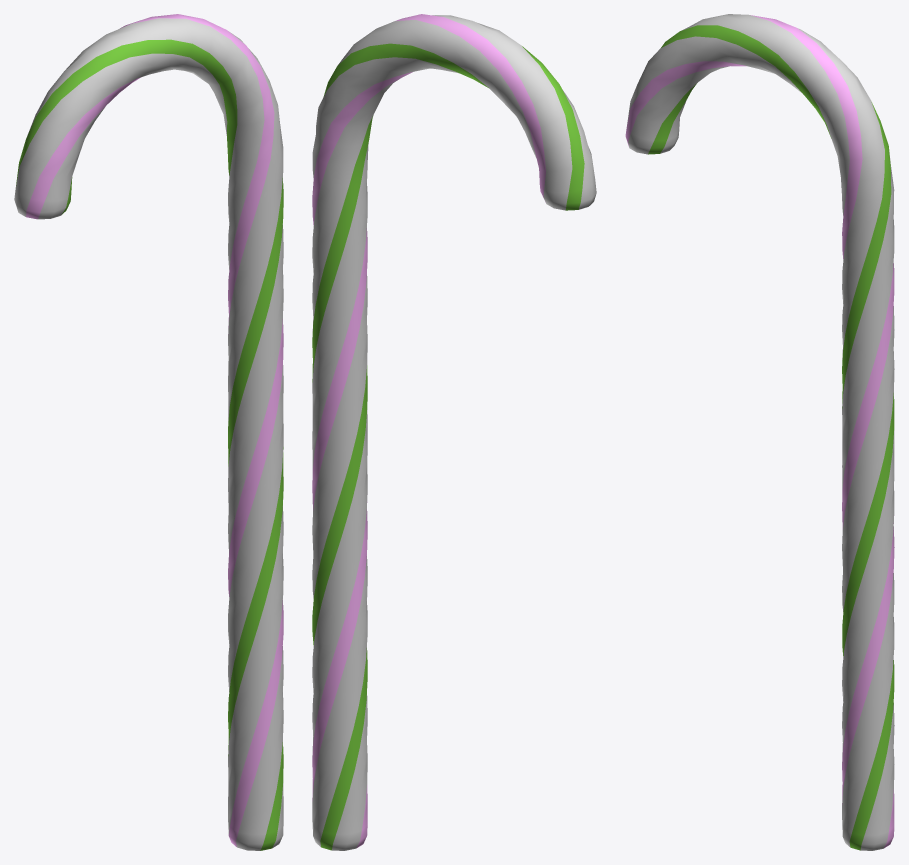
The model's file is Polkagris_4.glb.
3 renders of one model, left to right at view 1: azimuth 30°, elevation 25°; view 2: azimuth 150°, elevation 25°; view 3: azimuth 330°, elevation 25°, orthographic. The views are drawn at different scales.
Parts seen in each view (by area): view 1: Polkagrisar.004; view 2: Polkagrisar.004; view 3: Polkagrisar.004.
Boxes of the visible parts, x1,y1,x2,y2 form: Polkagrisar.004: (14, 14, 283, 850); Polkagrisar.004: (312, 14, 596, 850); Polkagrisar.004: (625, 14, 894, 850).
Bounding box in the file's own units: 0.8246 × 2.49 × 0.1915.
